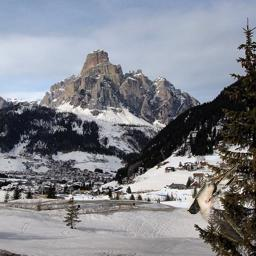Swallow: (186, 164, 244, 241)
